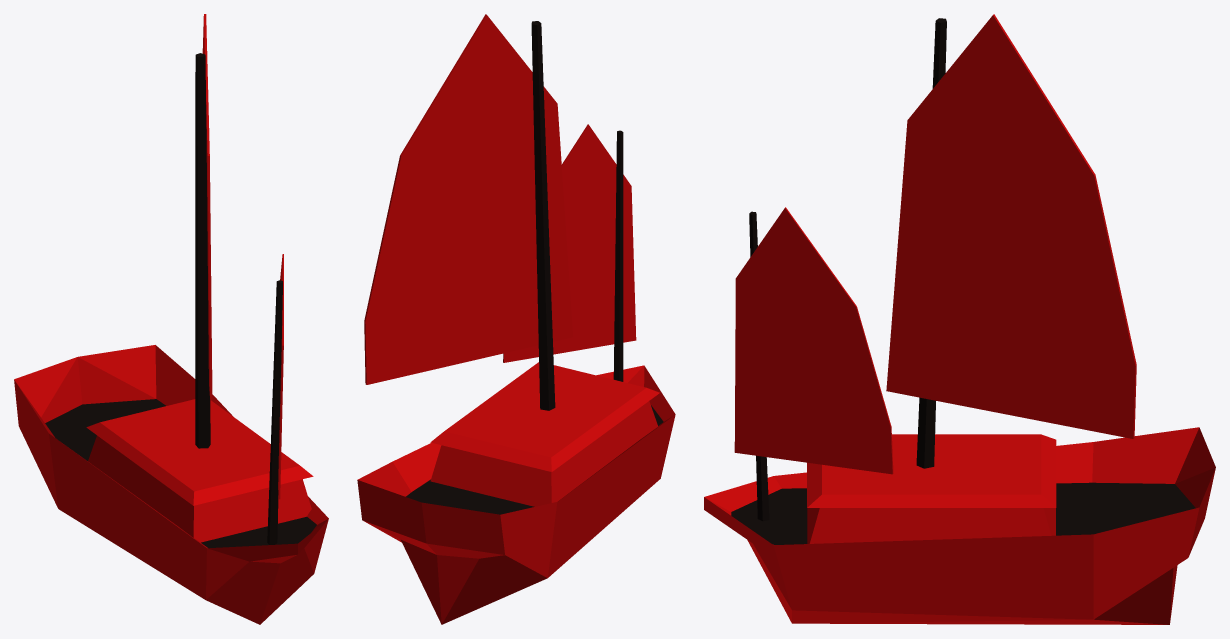
File: ship.obj
The picture shows the model from 3 angles, left to right: view 1: azimuth 30°, elevation 25°; view 2: azimuth 150°, elevation 25°; view 3: azimuth 270°, elevation 25°; orthographic projection. The views are drawn at different scales.
Visible parts, largest first — view 1: Body, cabin_roof, cabin, Sail, Sail.001; view 2: Sail, Body, Sail.001, cabin_roof, cabin; view 3: Sail, Body, Sail.001, cabin_roof, cabin.
Part boxes in pixels (x1=…): Body: x1=14, y1=345, x2=328, y2=624; cabin_roof: x1=86, y1=399, x2=313, y2=505; cabin: x1=88, y1=435, x2=311, y2=542; Sail: x1=195, y1=14, x2=212, y2=448; Sail.001: x1=267, y1=254, x2=283, y2=544; Sail: x1=364, y1=14, x2=573, y2=410; Body: x1=357, y1=365, x2=675, y2=624; Sail.001: x1=503, y1=124, x2=636, y2=381; cabin_roof: x1=430, y1=362, x2=659, y2=471; cabin: x1=430, y1=401, x2=658, y2=506; Sail: x1=886, y1=14, x2=1136, y2=468; Body: x1=704, y1=427, x2=1215, y2=624; Sail.001: x1=734, y1=207, x2=893, y2=521; cabin_roof: x1=807, y1=434, x2=1056, y2=507; cabin: x1=807, y1=508, x2=1055, y2=543.
Bounding box in the file's own units: 1.73 × 5.17 × 3.81.
